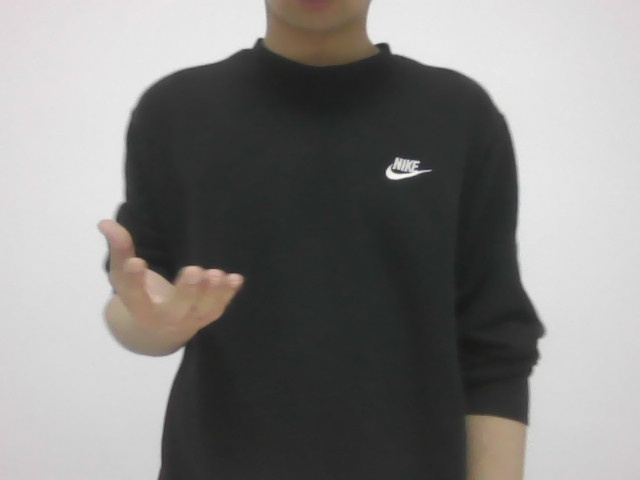flavor: (85, 216, 249, 345)
